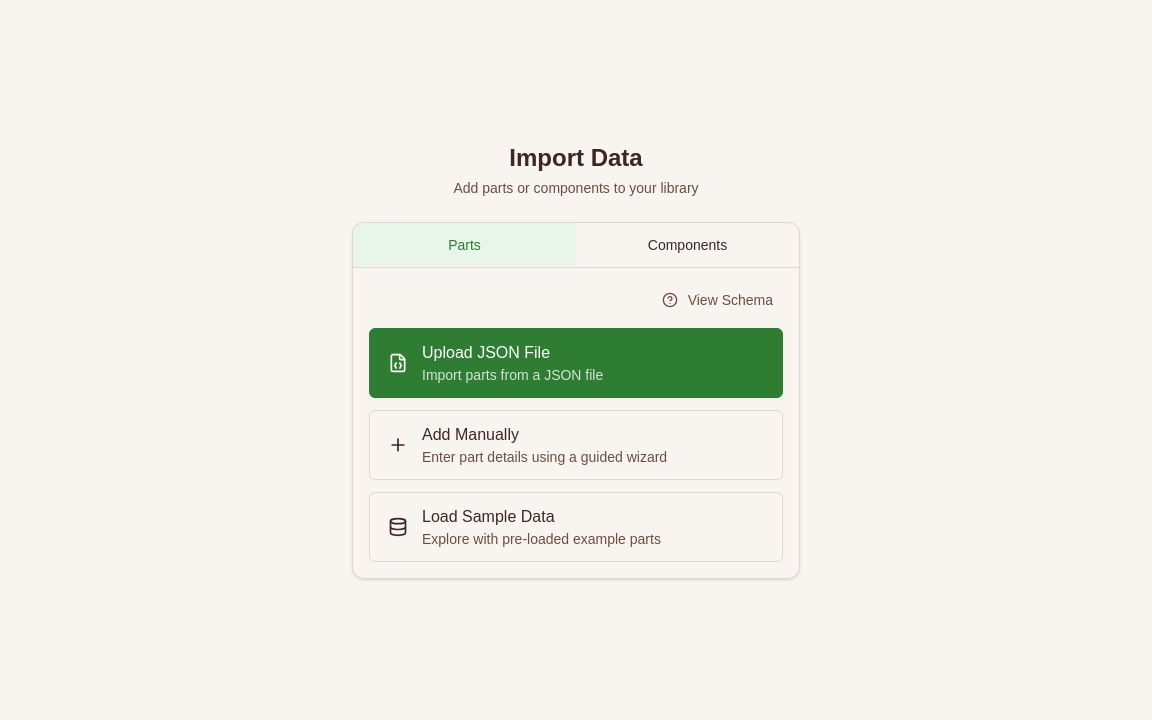
Scenario: Data Import Screen (Story 2.2) › AC-2.2.3: Card Click Handlers › Upload JSON card opens ComponentsJsonUploadModal (Components)
The image size is (1152, 720).
// Switch to Components tab
Step 1. Click the tab "Components" → x=688, y=244, box [576,223,799,266]
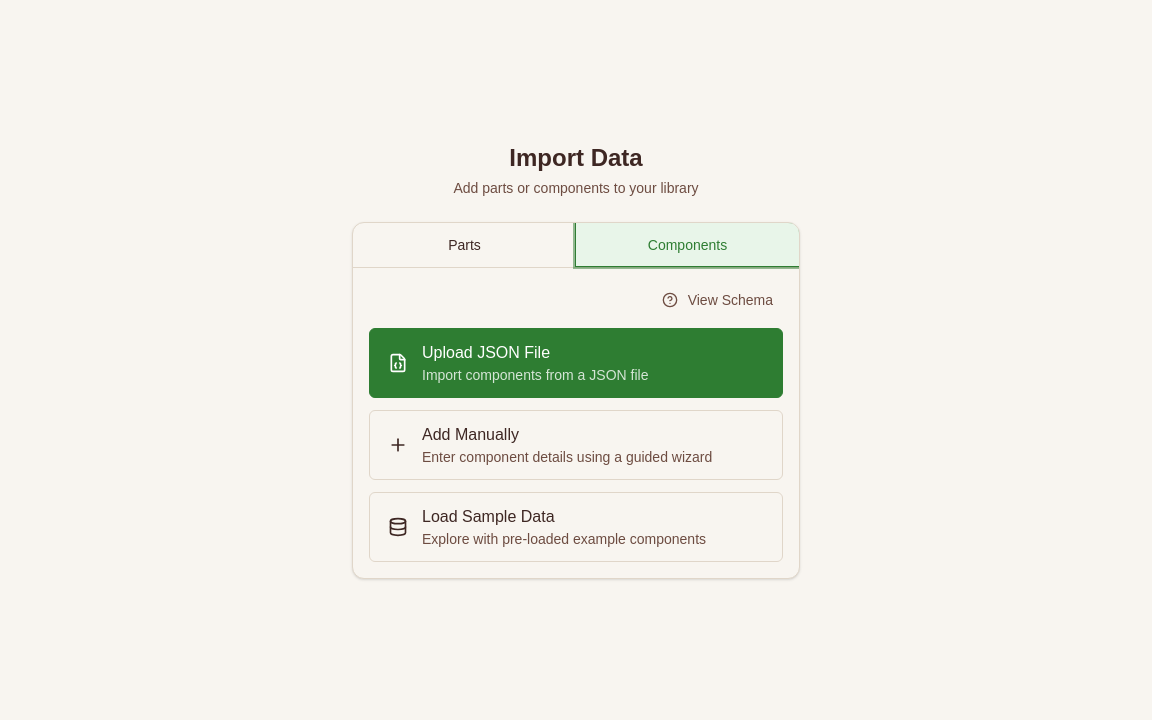
Step 2. Click the button "Upload JSON File" → x=486, y=352, box [369,328,783,398]
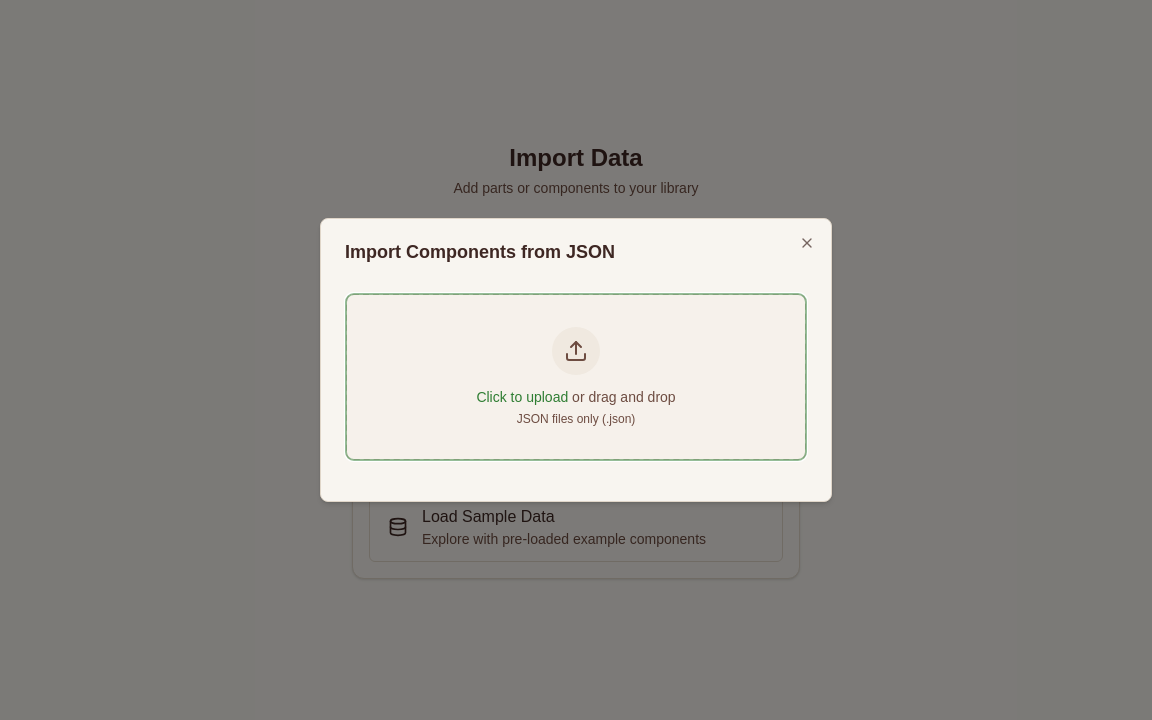
Check: the heading "Import Components from JSON" is shown, box [345,242,615,262]
